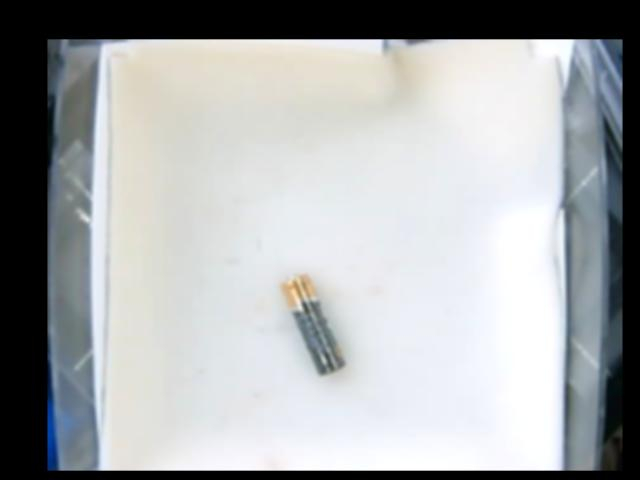Battery: (282, 274, 343, 374)
